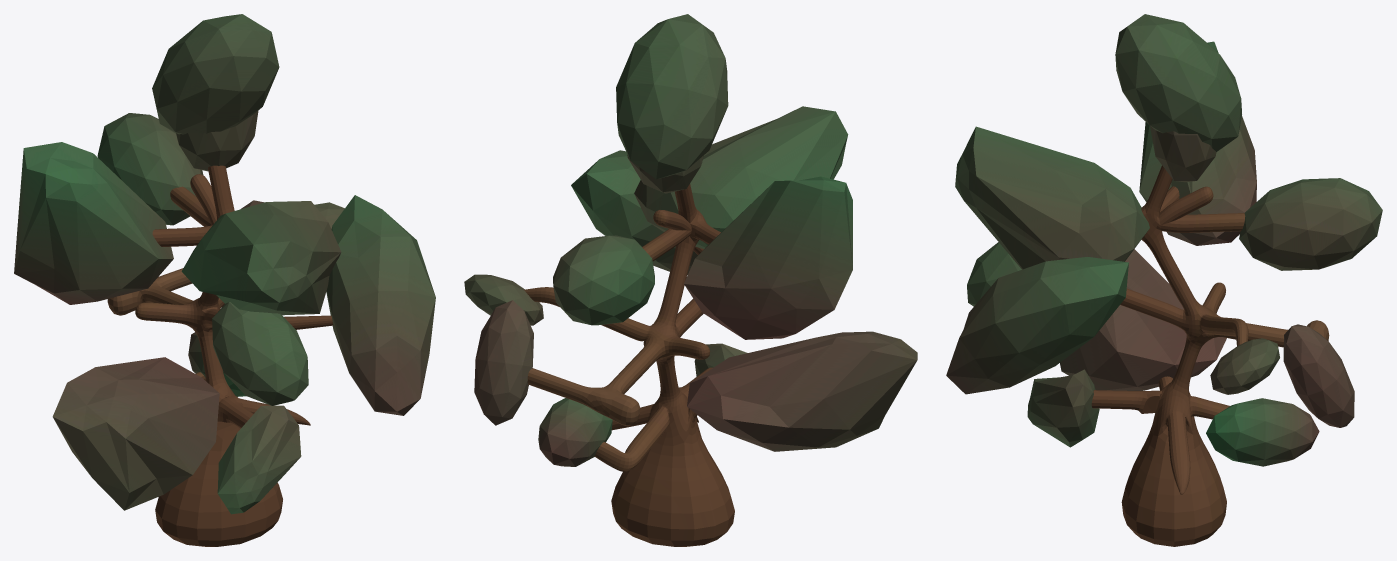
File: tree1.glb
3 views of the same model, side by side, from view 1: azimuth 30°, elevation 25°; view 2: azimuth 150°, elevation 25°; view 3: azimuth 270°, elevation 25° (orthographic). The views are drawn at different scales.
Visible parts, largest first — view 1: Icosphere.006; view 2: Icosphere.006; view 3: Icosphere.006.
Part boxes in pixels (box(x1,y1,x2,y2)): Icosphere.006: box(14, 14, 435, 546); Icosphere.006: box(464, 14, 917, 546); Icosphere.006: box(946, 14, 1382, 546).
Bounding box in the file's own units: 1.27 × 1.65 × 1.27.
Materials: 2 (2 with a texture image).
